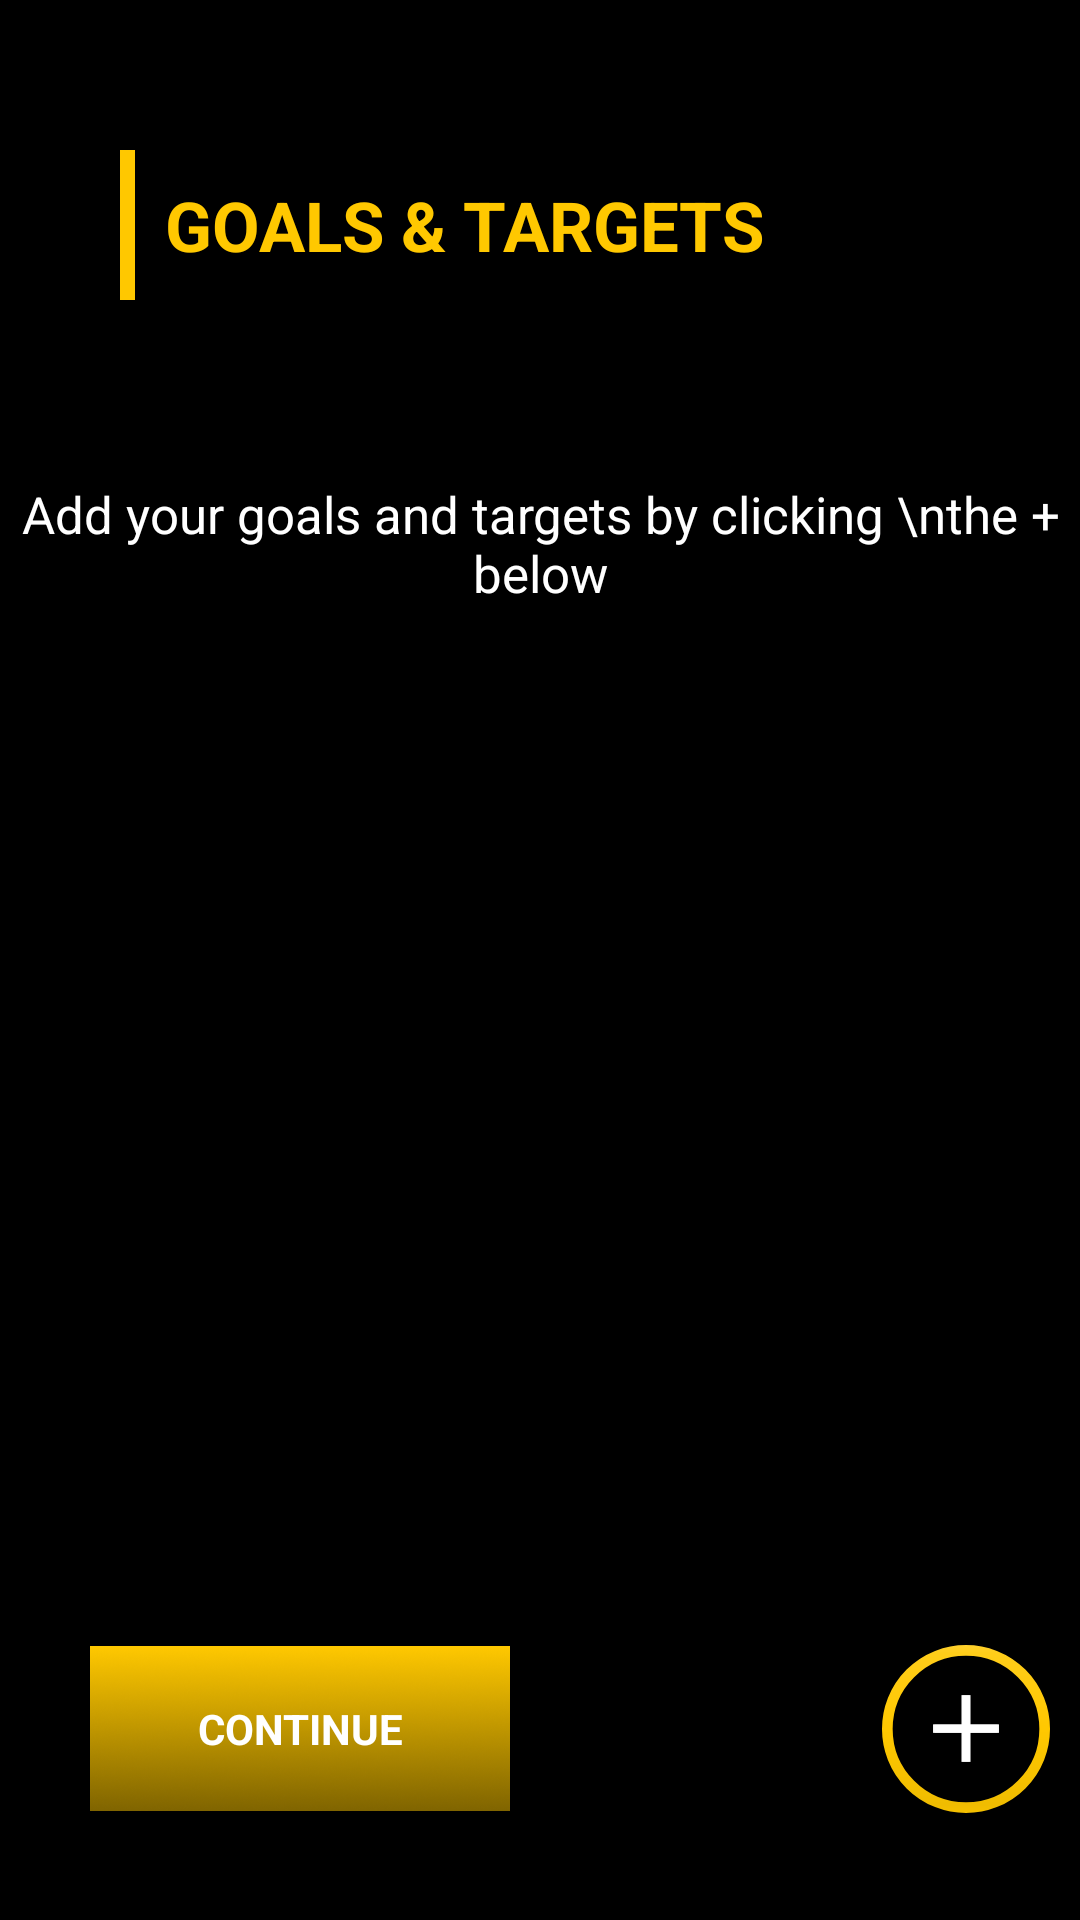

Screen size 1080×1920. Icon name, then its center in pixels as [x,y]:
plus: [966,1729]
